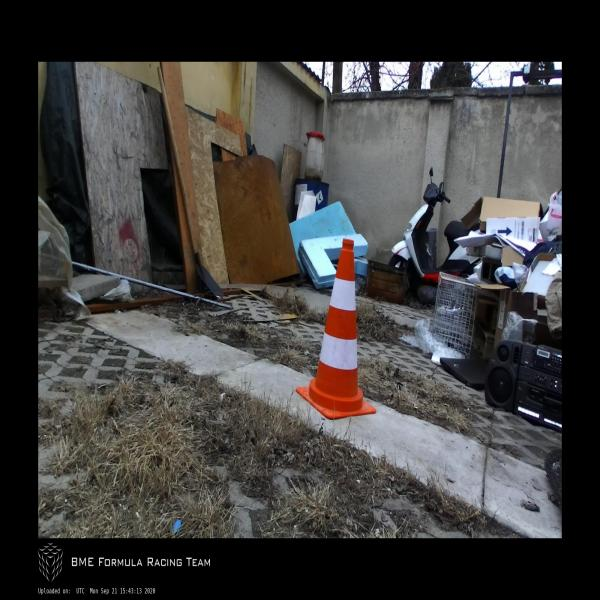large_orange_cone: (296, 238, 376, 420)
